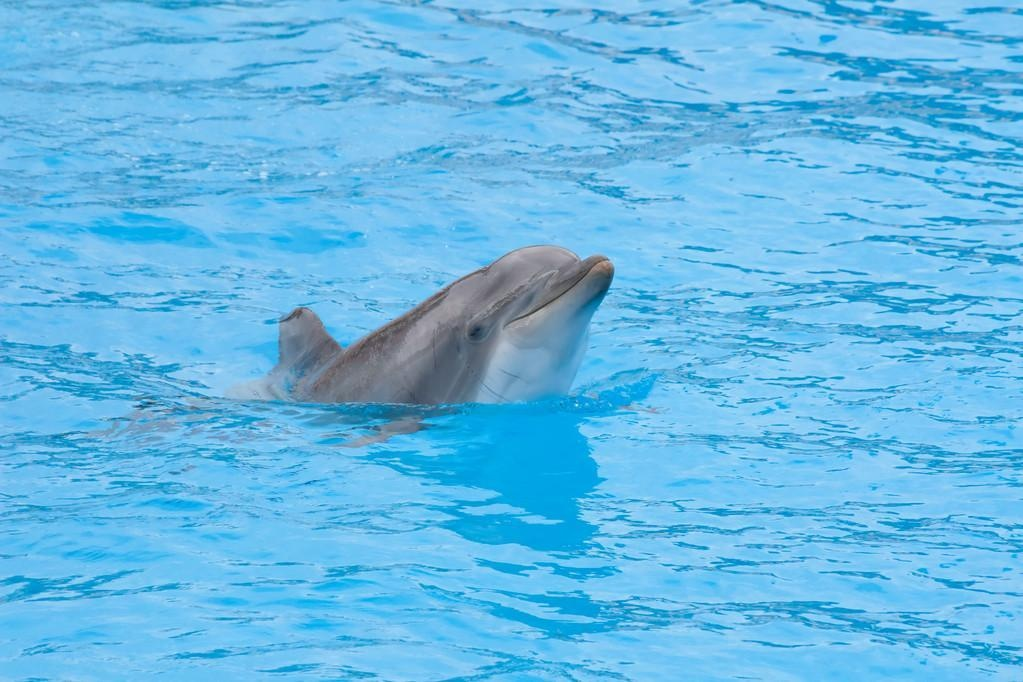fish: (72, 239, 625, 466)
